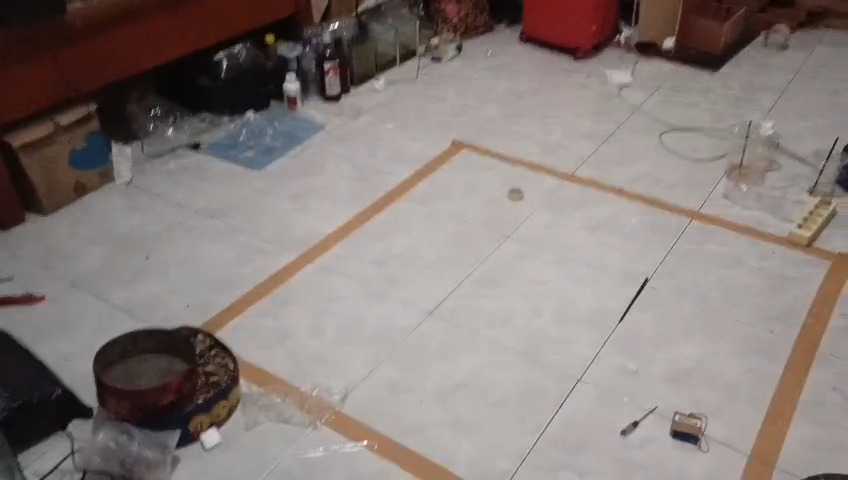floor marking: (202, 140, 847, 479), (325, 411, 459, 477), (241, 359, 307, 409)
